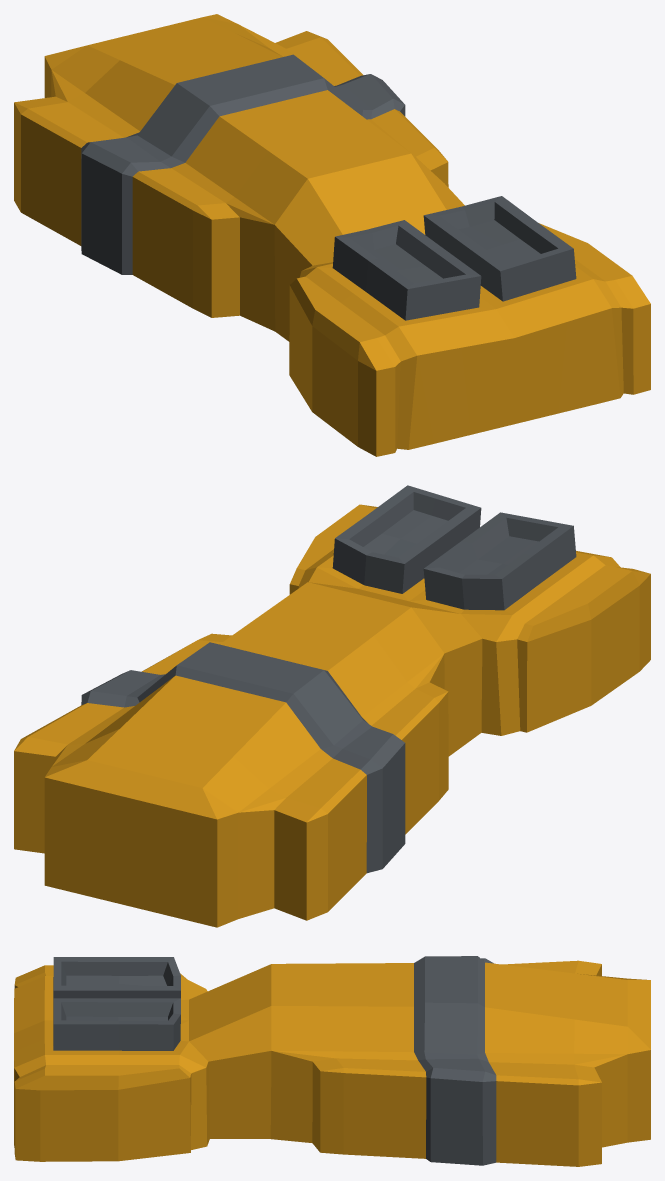
File: Fighter_10_Hatch_Yellow.fbx
3 renders of one model, top to bottom at view 1: azimuth 30°, elevation 25°; view 2: azimuth 150°, elevation 25°; view 3: azimuth 270°, elevation 25°, orthographic. The views are drawn at different scales.
Visible parts, largest first — view 1: Fighter_10_Hatch_Yellow; view 2: Fighter_10_Hatch_Yellow; view 3: Fighter_10_Hatch_Yellow.
Boxes of the visible parts, x1,y1,x2,y2 form: Fighter_10_Hatch_Yellow: (14, 14, 650, 456); Fighter_10_Hatch_Yellow: (14, 485, 650, 927); Fighter_10_Hatch_Yellow: (14, 956, 650, 1166).
Size of the model in its own units: 341 by 160 by 737.
1 material, 1 textured.
